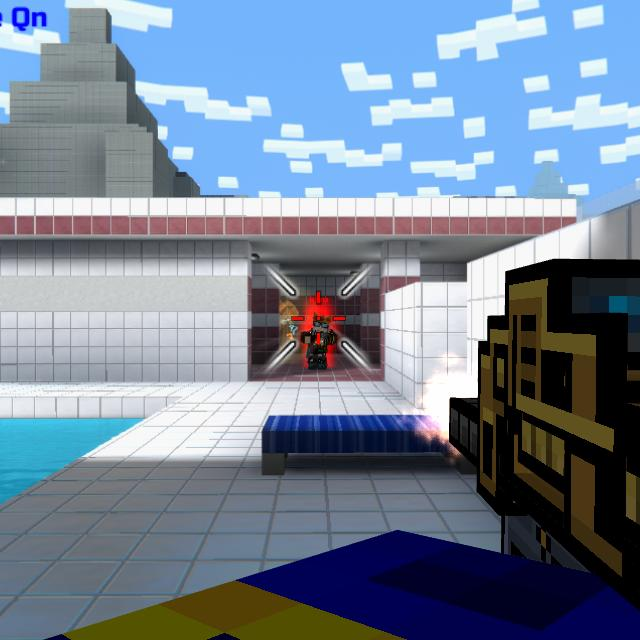Enemy: (301, 316, 338, 370)
